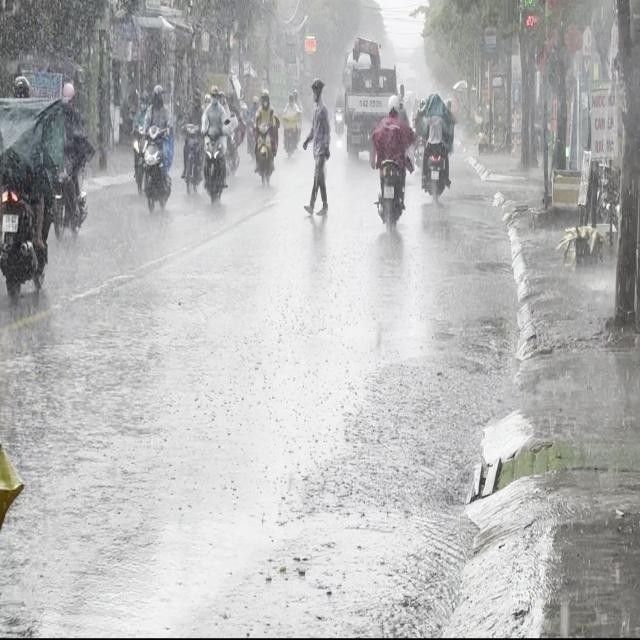helmet: (12, 74, 29, 99)
licenseplate: (0, 66, 54, 300)
nohelmet: (1, 212, 18, 230)
